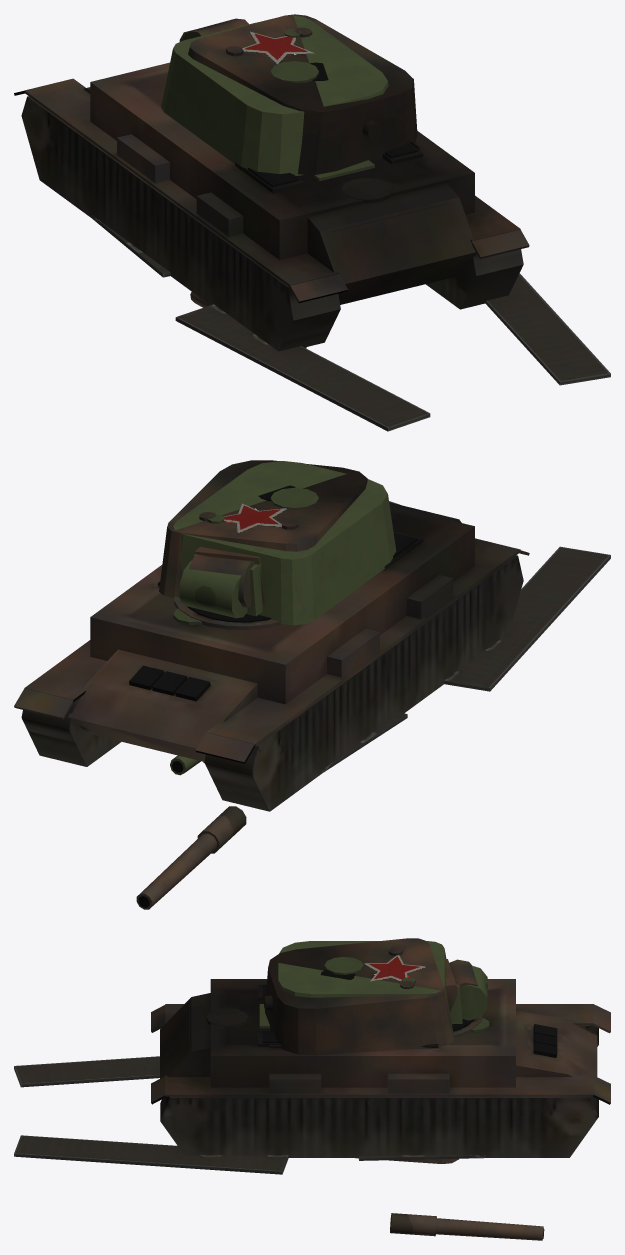
3 views of the same model, one above another, from view 1: azimuth 30°, elevation 25°; view 2: azimuth 150°, elevation 25°; view 3: azimuth 270°, elevation 25° (orthographic). The views are drawn at different scales.
Parts seen in each view (by area): view 1: hull_blown, turret_ko, turret_ok, hull_trackL, hull_trackR; view 2: hull_blown, turret_ok, turret_ko, hull_trackL, gun_blown; view 3: hull_blown, turret_ko, hull_trackR, turret_ok, hull_trackL, gun_blown.
Part boxes in pixels (x1,y1,x2,y2): hull_blown: (14, 62, 529, 351); turret_ko: (182, 14, 417, 175); turret_ok: (161, 15, 388, 175); hull_trackL: (91, 214, 430, 431); hull_trackR: (485, 273, 610, 385); hull_blown: (14, 502, 529, 811); turret_ok: (173, 461, 396, 625); turret_ko: (159, 460, 367, 607); hull_trackL: (321, 546, 610, 773); gun_blown: (136, 806, 246, 909); hull_blown: (151, 979, 610, 1157); turret_ko: (263, 938, 477, 1055); hull_trackR: (14, 1135, 485, 1174); turret_ok: (278, 941, 487, 1025); hull_trackL: (14, 1056, 159, 1087); gun_blown: (390, 1213, 544, 1240).
Size of the model in its own units: 4.51 by 4.57 by 9.19.
21 materials, 21 textured.
